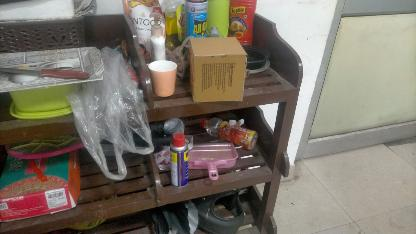Others: (149, 60, 177, 96)
Plastic Bottle: (201, 119, 258, 151)
